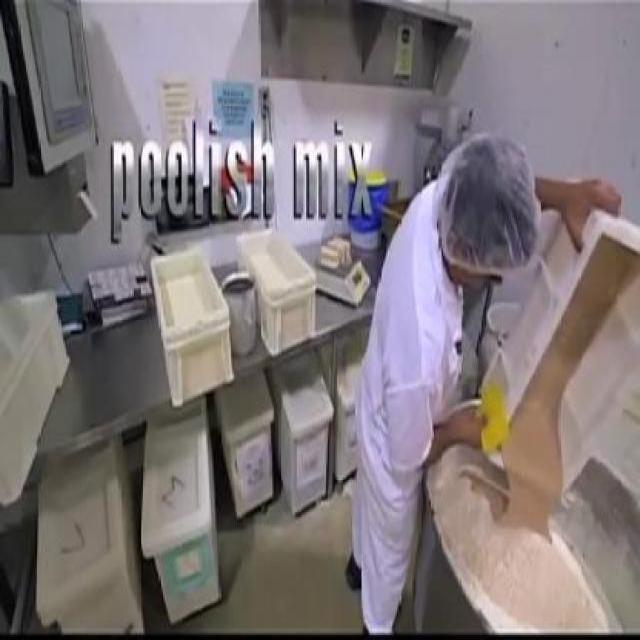bare_hand: (558, 150, 624, 266), (446, 379, 507, 472)
